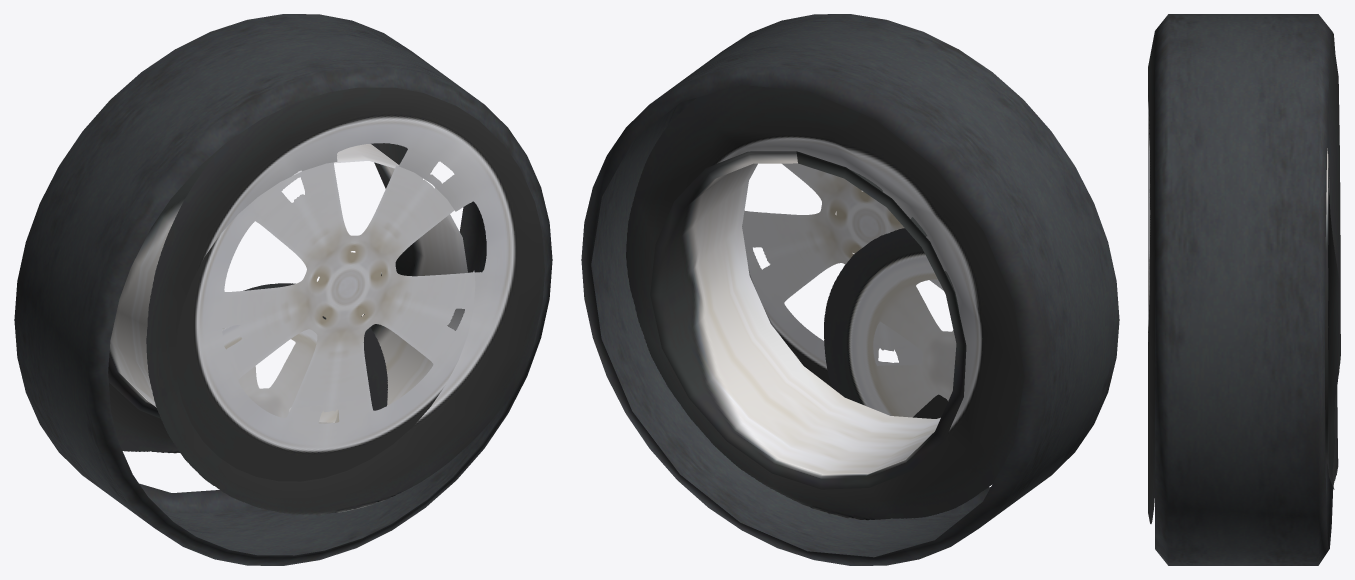
The model's file is wheel_motion_blur.fbx.
The picture shows the model from 3 angles, left to right: view 1: azimuth 30°, elevation 25°; view 2: azimuth 150°, elevation 25°; view 3: azimuth 270°, elevation 25°; orthographic projection. The views are drawn at different scales.
Parts seen in each view (by area): view 1: wheel_motion_blur; view 2: wheel_motion_blur; view 3: wheel_motion_blur.
Boxes of the visible parts, bbox=[...] form: wheel_motion_blur: bbox=[14, 14, 552, 565]; wheel_motion_blur: bbox=[581, 14, 1119, 565]; wheel_motion_blur: bbox=[1148, 14, 1340, 565].
Bounding box in the file's own units: 71.28 × 71.28 × 24.87.
